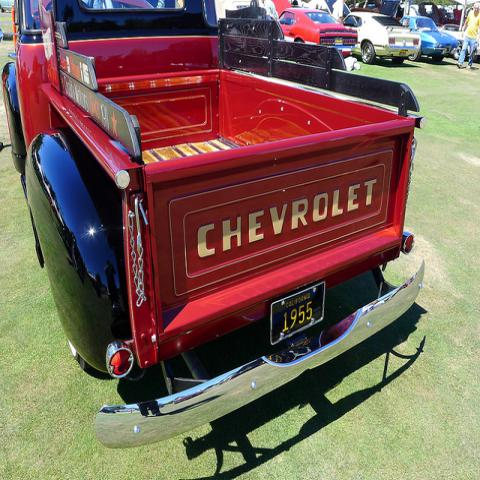car: (344, 10, 418, 62), (279, 8, 359, 49), (399, 16, 460, 63), (438, 23, 465, 60)
truck: (3, 1, 426, 450)
